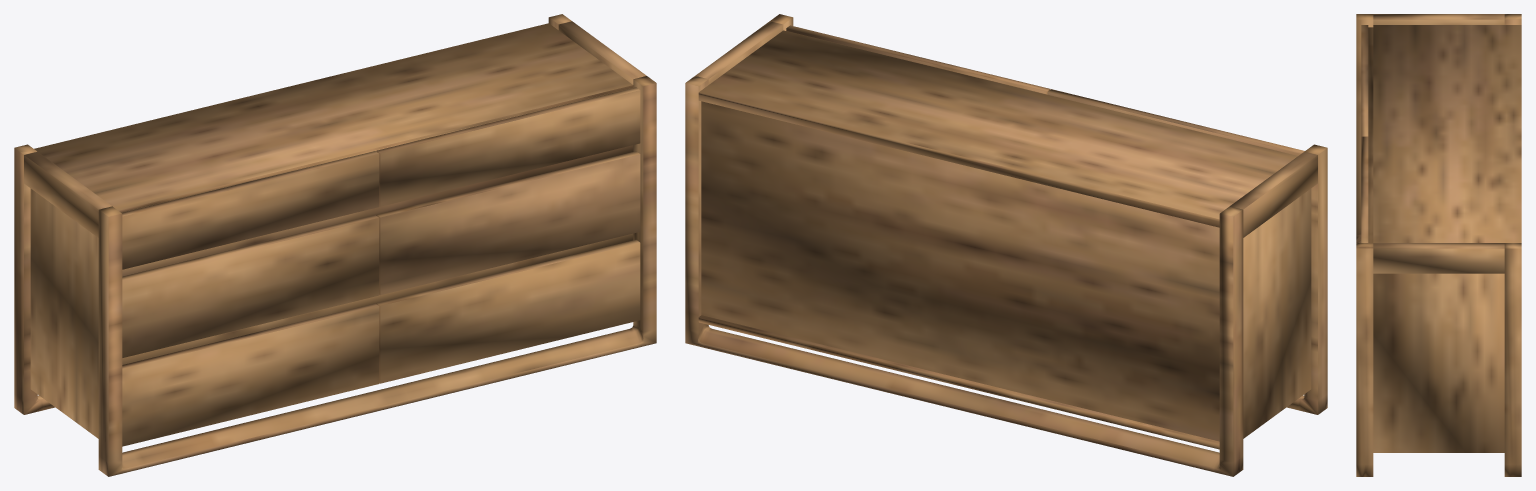
3 views of the same model, side by side, from view 1: azimuth 30°, elevation 25°; view 2: azimuth 150°, elevation 25°; view 3: azimuth 270°, elevation 25° (orthographic). The views are drawn at different scales.
Visible parts, largest first — view 1: Dresser 001; view 2: Dresser 001; view 3: Dresser 001.
Boxes of the visible parts, x1,y1,x2,y2 form: Dresser 001: (14,14,656,476); Dresser 001: (685,14,1327,476); Dresser 001: (1356,14,1521,476).
Bounding box in the file's own units: 161 × 73 × 48.
